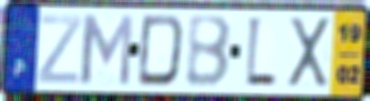B: (185, 13, 234, 90)
D: (135, 13, 188, 90)
L: (243, 13, 279, 91)
M: (79, 12, 136, 88)
X: (287, 15, 332, 90)
Z: (36, 14, 83, 86)
